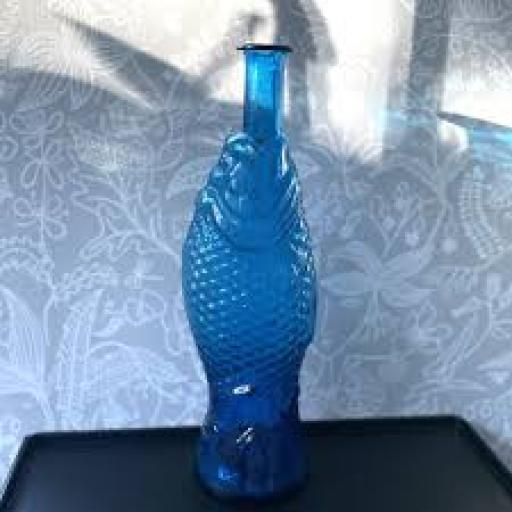blue-bottle: (182, 48, 314, 498)
